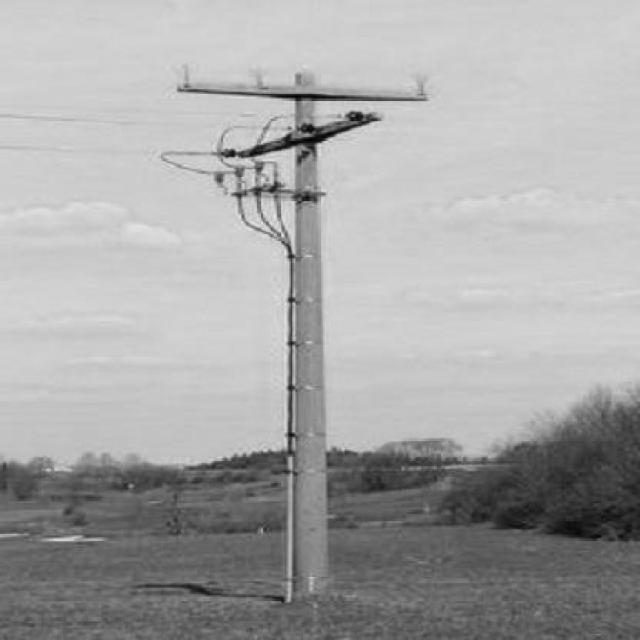Pole: (162, 66, 428, 602)
